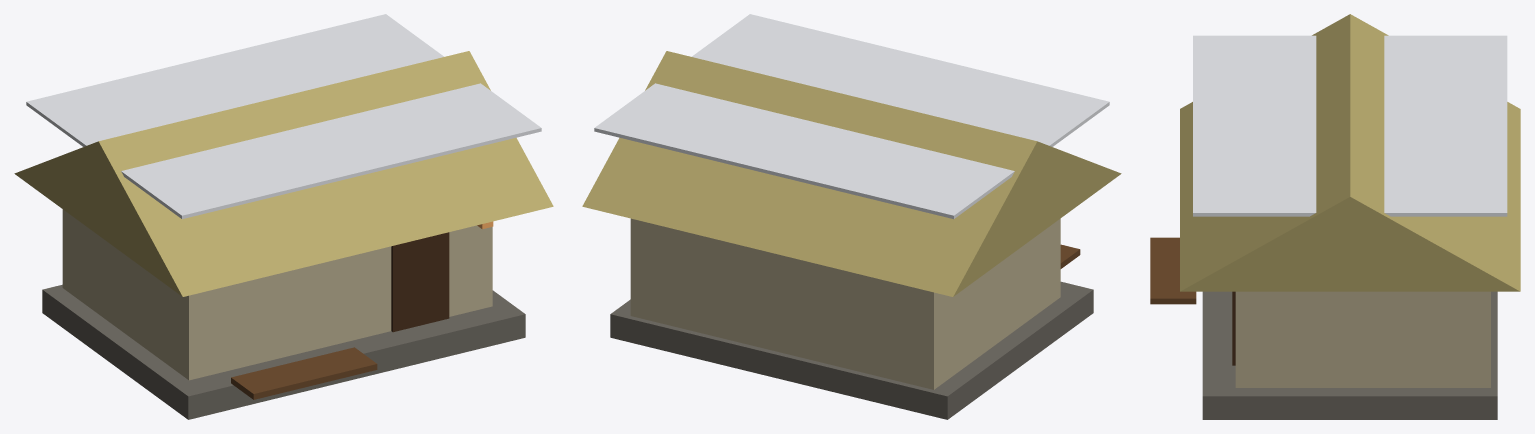
Rendered from city_gate_inn.glb.
The picture shows the model from 3 angles, left to right: view 1: azimuth 30°, elevation 25°; view 2: azimuth 150°, elevation 25°; view 3: azimuth 270°, elevation 25°; orthographic projection.
Visible parts, largest first — view 1: city_gate_inn; view 2: city_gate_inn; view 3: city_gate_inn.
Part boxes in pixels (x1,y1,x2,y2): city_gate_inn: [14, 14, 553, 419]; city_gate_inn: [582, 14, 1121, 419]; city_gate_inn: [1150, 14, 1520, 419].
Bounding box in the file's own units: 6.6 × 3.9 × 5.65.
